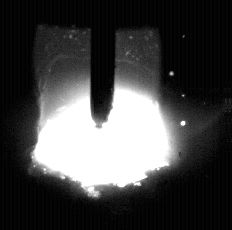arame: (91, 0, 114, 127)
poca: (31, 0, 171, 230)
